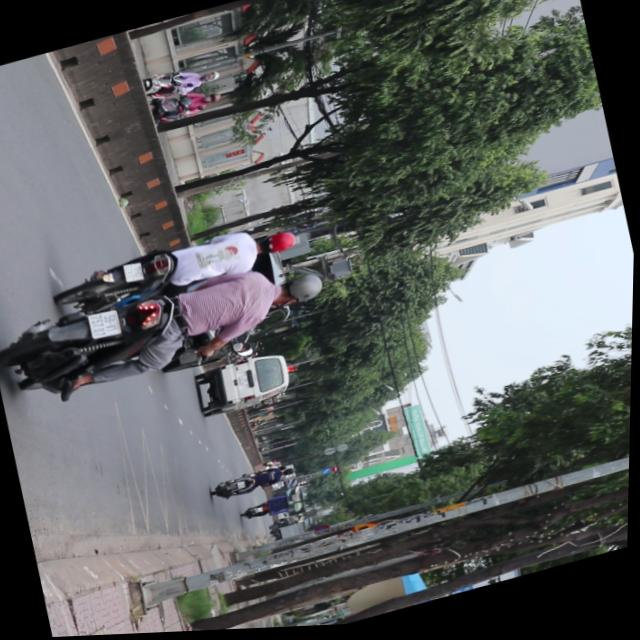helmet: (271, 271, 329, 312), (256, 229, 299, 259)
licenseplate: (0, 246, 338, 418), (52, 212, 305, 324)
nohelmet: (89, 308, 123, 341), (124, 261, 147, 284)
